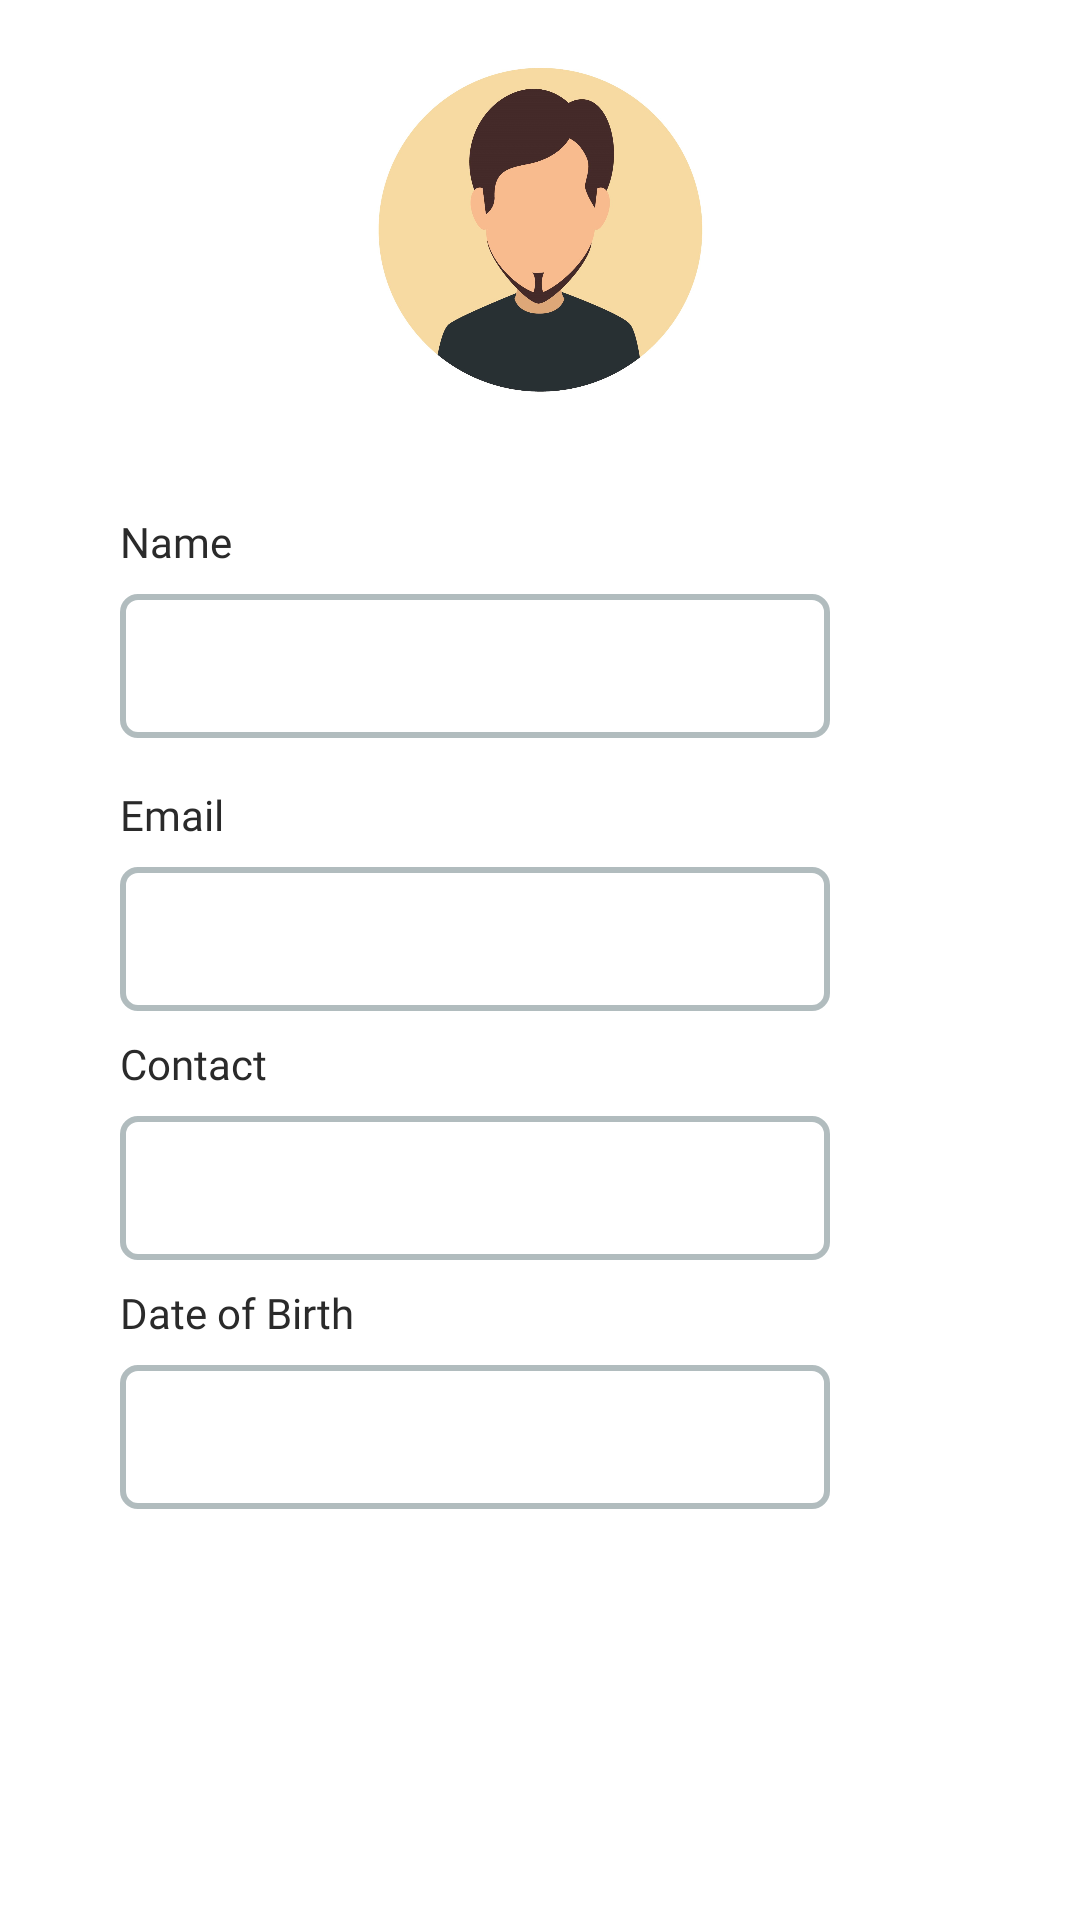

Where icons sit on this 1080×1920 app screen, as region(x1, y1, x2, y2):
maleicon: region(378, 68, 702, 392)
